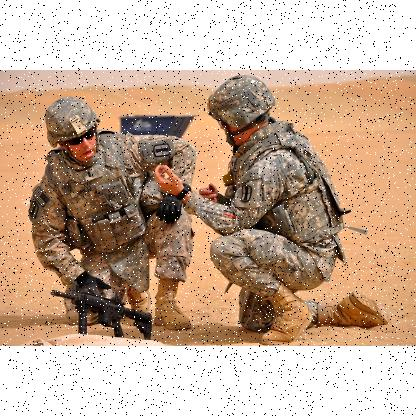gun: (51, 290, 151, 340)
